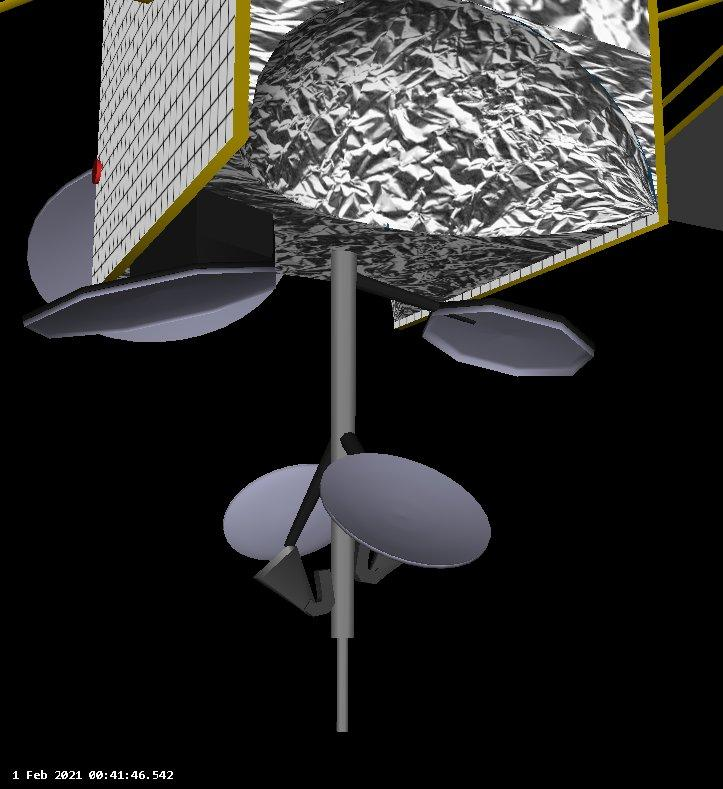antenna: (25, 158, 290, 345), (20, 262, 287, 342), (319, 449, 494, 571), (416, 297, 601, 380), (223, 461, 346, 565)
body: (89, 0, 673, 334)
solar: (661, 84, 723, 236)
